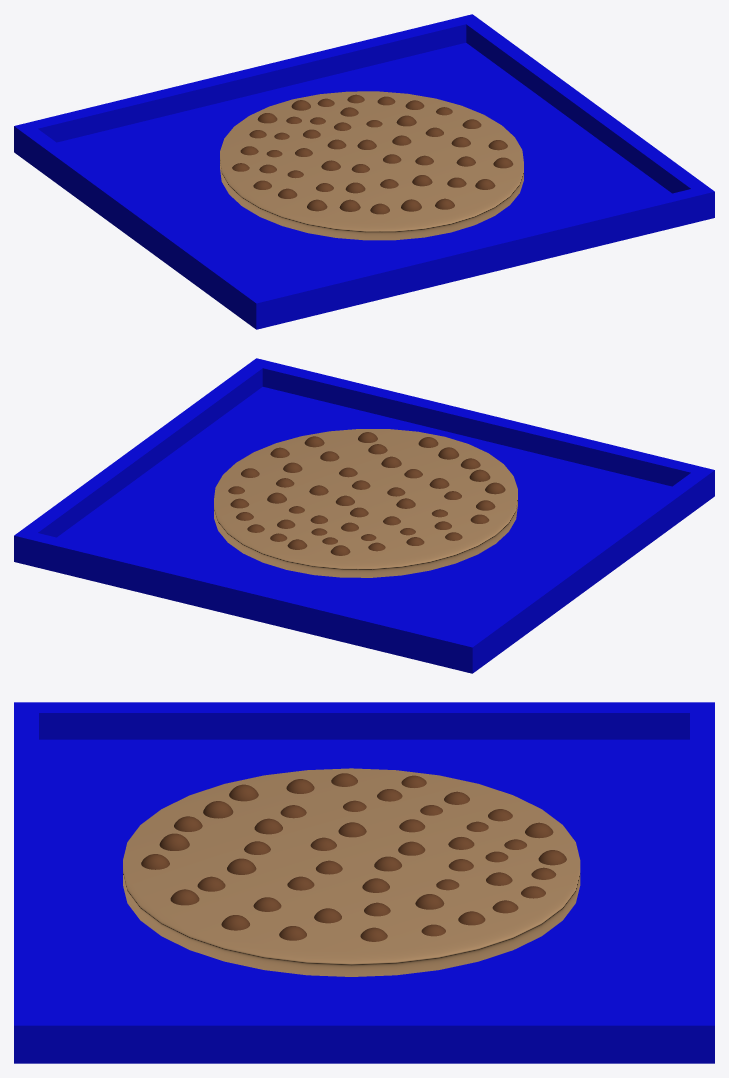
3 renders of one model, top to bottom at view 1: azimuth 30°, elevation 25°; view 2: azimuth 150°, elevation 25°; view 3: azimuth 270°, elevation 25°, orthographic. The views are drawn at different scales.
Parts seen in each view (by area): view 1: Cube, Cylinder; view 2: Cube, Cylinder; view 3: Cube, Cylinder.
Boxes of the visible parts, box(x1,y1,x2,y2) form: Cube: box(14, 14, 714, 329); Cylinder: box(220, 91, 523, 240); Cube: box(14, 358, 714, 673); Cylinder: box(214, 429, 517, 577); Cube: box(14, 702, 714, 1063); Cylinder: box(123, 768, 580, 976).
Size of the model in its own units: 19.47 by 1.51 by 17.83.
